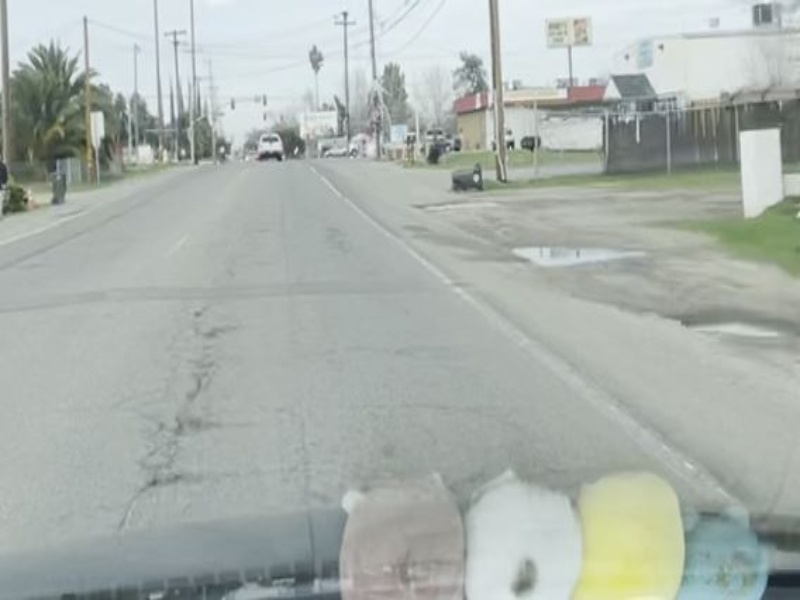pothole: (141, 473, 188, 490)
